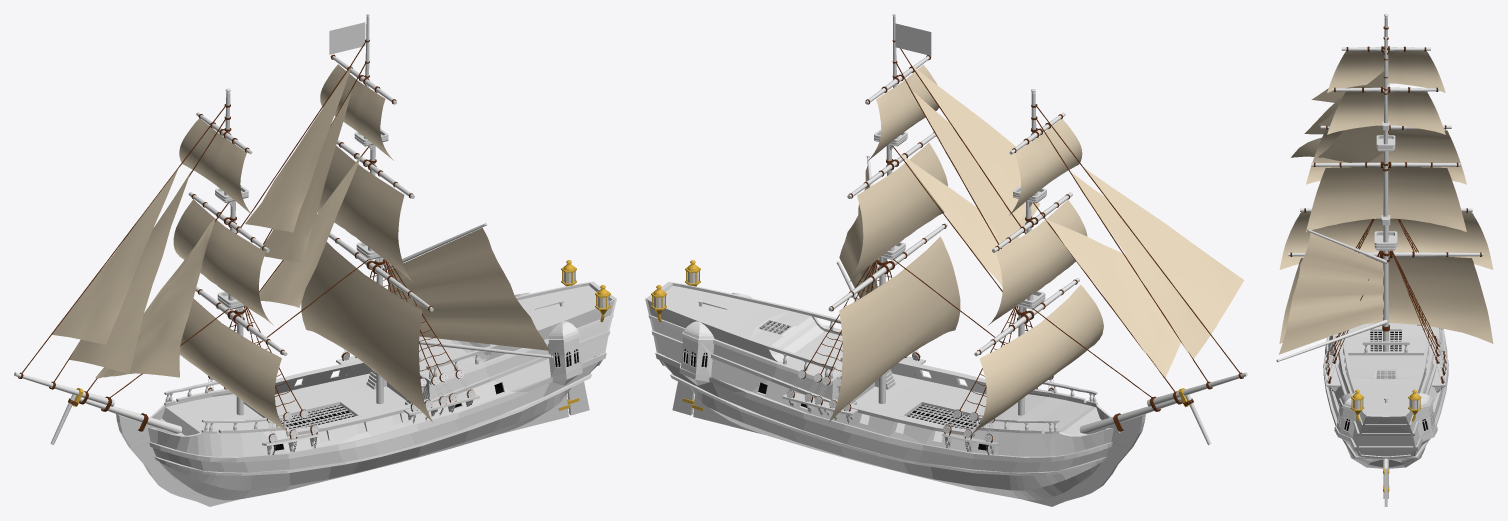
The model's file is barco.fbx.
3 views of the same model, side by side, from view 1: azimuth 30°, elevation 25°; view 2: azimuth 150°, elevation 25°; view 3: azimuth 270°, elevation 25° (orthographic). The views are drawn at different scales.
Visible parts, largest first — view 1: casco.001, mastil 1.014, Plane.004, Plane.001, timon.002, timon.010, Plane.005, Plane.002, timon.011, timon.012, timon.014, Plane (+9 smaller); view 2: casco.001, Plane.004, Plane.001, timon.010, timon.002, Plane.005, Plane.002, timon.011, timon.012, timon.013, Plane, timon.014 (+9 smaller); view 3: casco.001, mastil 1.014, Plane.005, Plane.004, Plane.001, Plane.003, Plane, Plane.002, mastil 2, timon.013, mastil 1.009, mastil 1.011 (+10 smaller).
Boxes of the visible parts, x1,y1,x2,y2 form: casco.001: [116, 259, 616, 506]; mastil 1.014: [387, 228, 549, 350]; Plane.004: [301, 242, 432, 422]; Plane.001: [180, 298, 292, 436]; timon.002: [95, 218, 215, 378]; timon.010: [52, 168, 178, 344]; Plane.005: [317, 145, 411, 281]; Plane.002: [173, 199, 273, 325]; timon.011: [69, 172, 190, 373]; timon.012: [245, 65, 352, 232]; timon.014: [259, 155, 361, 307]; Plane: [179, 118, 251, 214]; casco.001: [645, 259, 1145, 506]; Plane.004: [829, 236, 960, 422]; Plane.001: [969, 285, 1103, 436]; timon.010: [1084, 168, 1244, 333]; timon.002: [1045, 219, 1181, 378]; Plane.005: [850, 143, 947, 281]; Plane.002: [988, 200, 1087, 325]; timon.011: [1071, 172, 1218, 359]; timon.012: [912, 66, 1025, 223]; timon.013: [911, 89, 1040, 247]; Plane: [1009, 119, 1082, 215]; timon.014: [901, 154, 1019, 286]; casco.001: [1323, 219, 1448, 498]; mastil 1.014: [1279, 233, 1383, 354]; Plane.005: [1306, 167, 1466, 231]; Plane.004: [1279, 256, 1493, 343]; Plane.001: [1279, 212, 1493, 269]; Plane.003: [1327, 91, 1445, 134]; Plane: [1327, 50, 1445, 92]; Plane.002: [1306, 129, 1466, 184]; mastil 2: [1374, 37, 1397, 351]; timon.013: [1318, 125, 1383, 162]; mastil 1.009: [1311, 161, 1460, 167]; mastil 1.011: [1288, 250, 1483, 258].
Bounding box in the file's own units: 4691 × 3434 × 1770.
